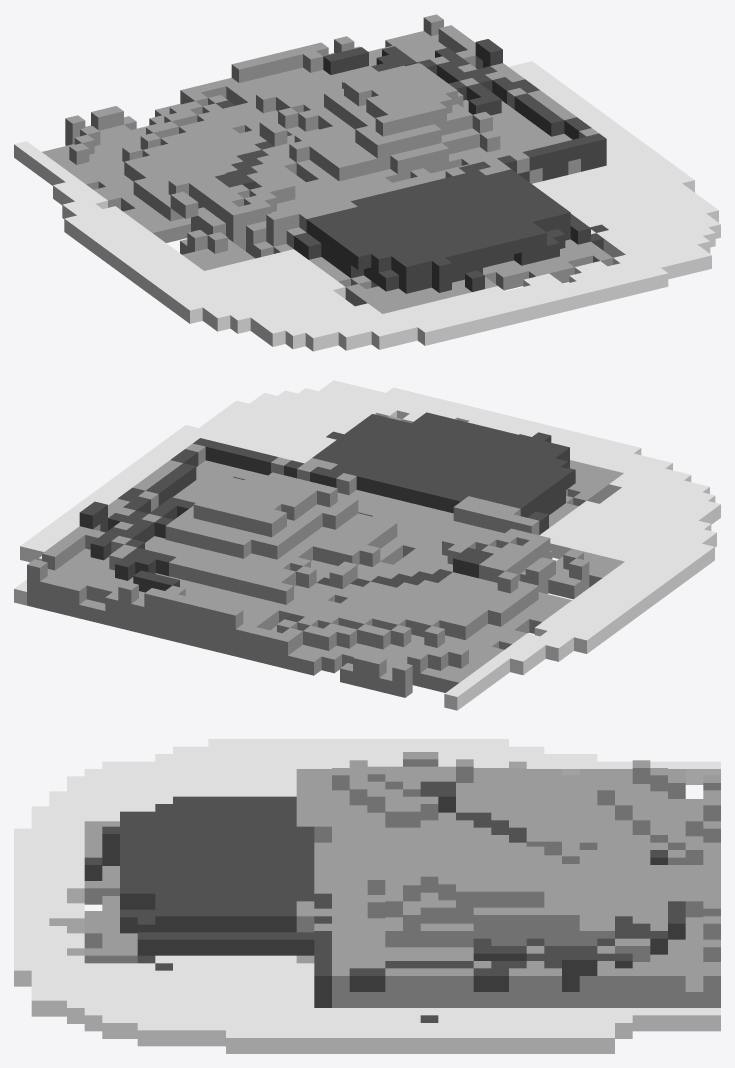
Rendered from building_destroyed.obj.
3 views of the same model, one above another, from view 1: azimuth 30°, elevation 25°; view 2: azimuth 150°, elevation 25°; view 3: azimuth 270°, elevation 25° (orthographic). The views are drawn at different scales.
Parts seen in each view (by area): view 1: building_destroyed; view 2: building_destroyed; view 3: building_destroyed.
Boxes of the visible parts, x1,y1,x2,y2 form: building_destroyed: [14, 14, 720, 351]; building_destroyed: [14, 380, 720, 710]; building_destroyed: [14, 739, 720, 1053].
Size of the model in its own units: 4 by 0.5 by 4.
1 material, 1 textured.
